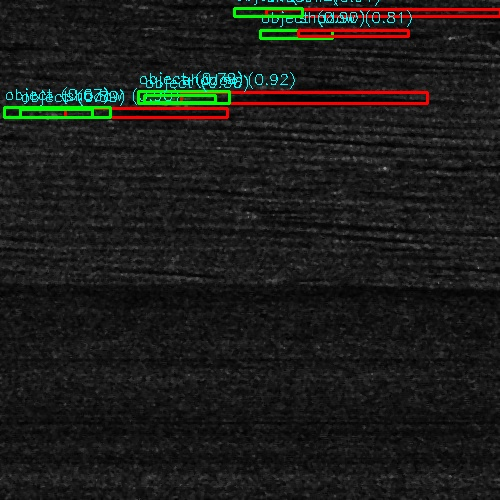rock: (119, 89, 234, 104), (0, 107, 125, 118), (250, 29, 343, 38), (254, 8, 295, 15)
shadow: (177, 89, 421, 104), (63, 107, 226, 118), (275, 8, 497, 15), (297, 29, 408, 38), (0, 120, 20, 125)
